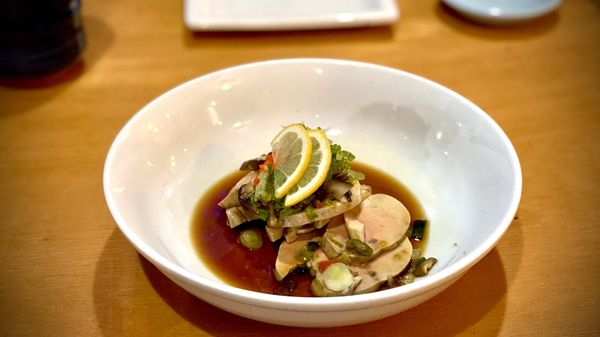pizza: (0, 1, 85, 79)
sushi: (108, 56, 523, 326)
